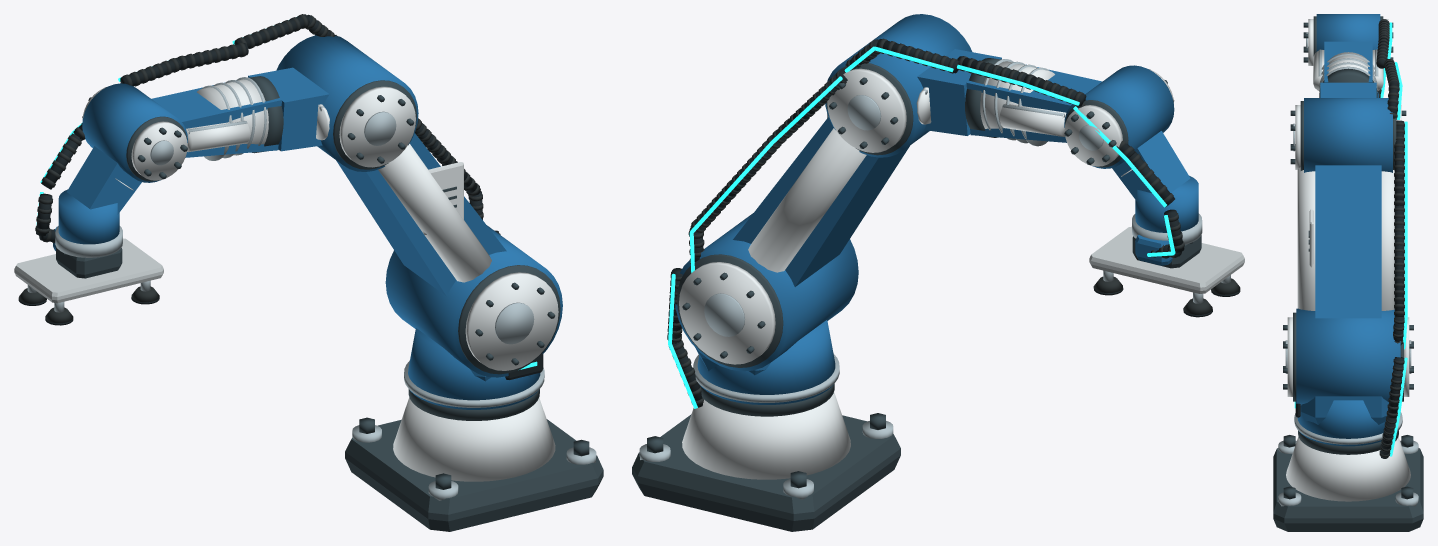
Rendered from robot.glb.
The picture shows the model from 3 angles, left to right: view 1: azimuth 30°, elevation 25°; view 2: azimuth 150°, elevation 25°; view 3: azimuth 270°, elevation 25°; orthographic projection. The views are drawn at different scales.
Parts seen in each view (by area): view 1: base__darksteel, J2_Shoulder__white, J2_Shoulder__blue, base__white, J3_Elbow__blue, J5_Wrist__blue, J1_Base__blue, J6_Tool__brushed, J3_Elbow__white, J4_Forearm__white, J4_Forearm__blue, J6_Tool__blue (+19 smaller); view 2: base__darksteel, J2_Shoulder__blue, J2_Shoulder__white, base__white, J3_Elbow__blue, J5_Wrist__blue, J1_Base__blue, J6_Tool__brushed, J3_Elbow__white, J6_Tool__blue, J4_Forearm__white, J4_Forearm__blue (+20 smaller); view 3: J2_Shoulder__blue, base__darksteel, J3_Elbow__blue, base__white, J2_Shoulder__white, J1_Base__blue, J5_Wrist__blue, J2_Shoulder__black, J2_Shoulder__rubber, J4_Forearm__blue, J4_Forearm__white, J2_Shoulder__cyan (+17 smaller).
Part boxes in pixels (bbox=[...]): base__darksteel: bbox=[345, 389, 603, 531]; J2_Shoulder__white: bbox=[378, 143, 558, 370]; J2_Shoulder__blue: bbox=[336, 133, 562, 377]; base__white: bbox=[393, 397, 555, 481]; J3_Elbow__blue: bbox=[248, 35, 418, 171]; J5_Wrist__blue: bbox=[67, 83, 187, 214]; J1_Base__blue: bbox=[408, 328, 540, 409]; J6_Tool__brushed: bbox=[14, 238, 163, 303]; J3_Elbow__white: bbox=[316, 86, 415, 167]; J4_Forearm__white: bbox=[186, 79, 268, 152]; J4_Forearm__blue: bbox=[151, 77, 282, 157]; J6_Tool__blue: bbox=[53, 189, 119, 250]; base__darksteel: bbox=[632, 384, 900, 531]; J2_Shoulder__blue: bbox=[675, 117, 909, 371]; J2_Shoulder__white: bbox=[679, 113, 866, 364]; base__white: bbox=[682, 392, 850, 479]; J3_Elbow__blue: bbox=[825, 14, 1001, 157]; J5_Wrist__blue: bbox=[1064, 65, 1190, 201]; J1_Base__blue: bbox=[695, 320, 835, 404]; J6_Tool__brushed: bbox=[1089, 226, 1244, 293]; J3_Elbow__white: bbox=[827, 68, 931, 152]; J6_Tool__blue: bbox=[1135, 175, 1198, 265]; J4_Forearm__white: bbox=[980, 61, 1066, 136]; J4_Forearm__blue: bbox=[966, 58, 1102, 142]; J2_Shoulder__blue: bbox=[1296, 165, 1400, 405]; base__darksteel: bbox=[1273, 430, 1423, 531]; J3_Elbow__blue: bbox=[1304, 82, 1392, 172]; base__white: bbox=[1286, 437, 1410, 501]; J2_Shoulder__white: bbox=[1287, 167, 1409, 396]; J1_Base__blue: bbox=[1297, 396, 1397, 446]; J5_Wrist__blue: bbox=[1316, 14, 1380, 51]; J2_Shoulder__black: bbox=[1393, 120, 1404, 345]; J2_Shoulder__rubber: bbox=[1393, 122, 1404, 344]; J4_Forearm__blue: bbox=[1324, 41, 1372, 82]; J4_Forearm__white: bbox=[1313, 50, 1383, 90]; J2_Shoulder__cyan: bbox=[1403, 121, 1407, 349].
Bounding box in the file's own units: 1.84 × 1.59 × 0.59.
